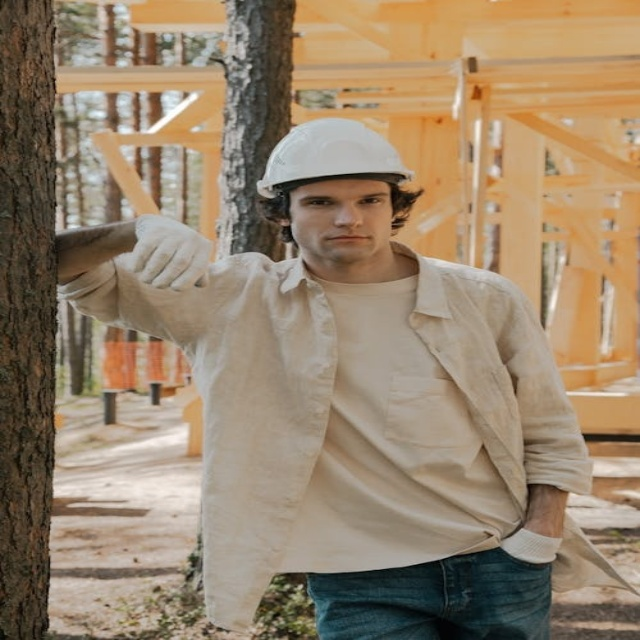Guantes: (125, 214, 214, 291), (493, 514, 566, 574)
Sin_gafas: (291, 189, 389, 210)
Sin_mascara: (315, 229, 384, 250)
